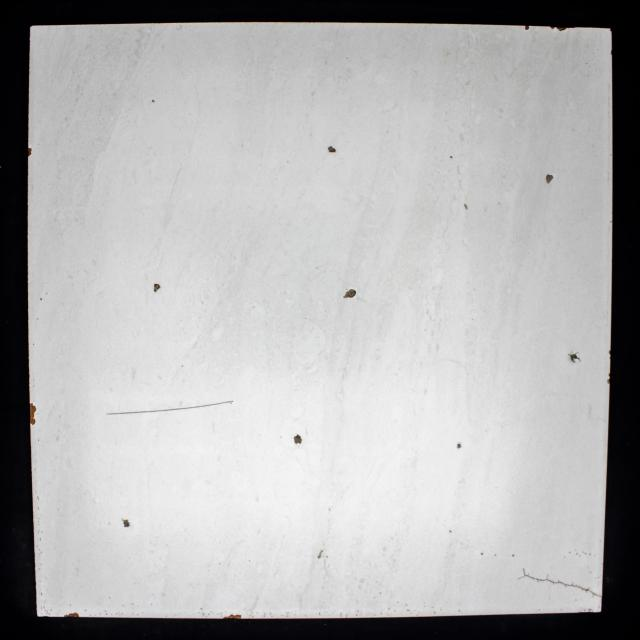edge-chipping: (30, 402, 37, 426), (63, 612, 80, 618), (222, 614, 242, 619), (556, 26, 567, 32), (28, 147, 32, 157), (524, 25, 530, 31), (550, 26, 556, 30)
hole: (567, 351, 582, 364), (342, 288, 358, 300), (293, 433, 303, 445), (121, 518, 131, 528), (545, 173, 554, 184), (153, 282, 161, 294), (327, 145, 337, 154), (456, 442, 463, 450), (449, 155, 454, 159), (152, 99, 156, 103), (449, 530, 452, 533), (481, 552, 483, 555), (512, 554, 514, 557), (40, 298, 42, 300)
line: (106, 399, 235, 415), (517, 567, 561, 584), (562, 580, 602, 598)
